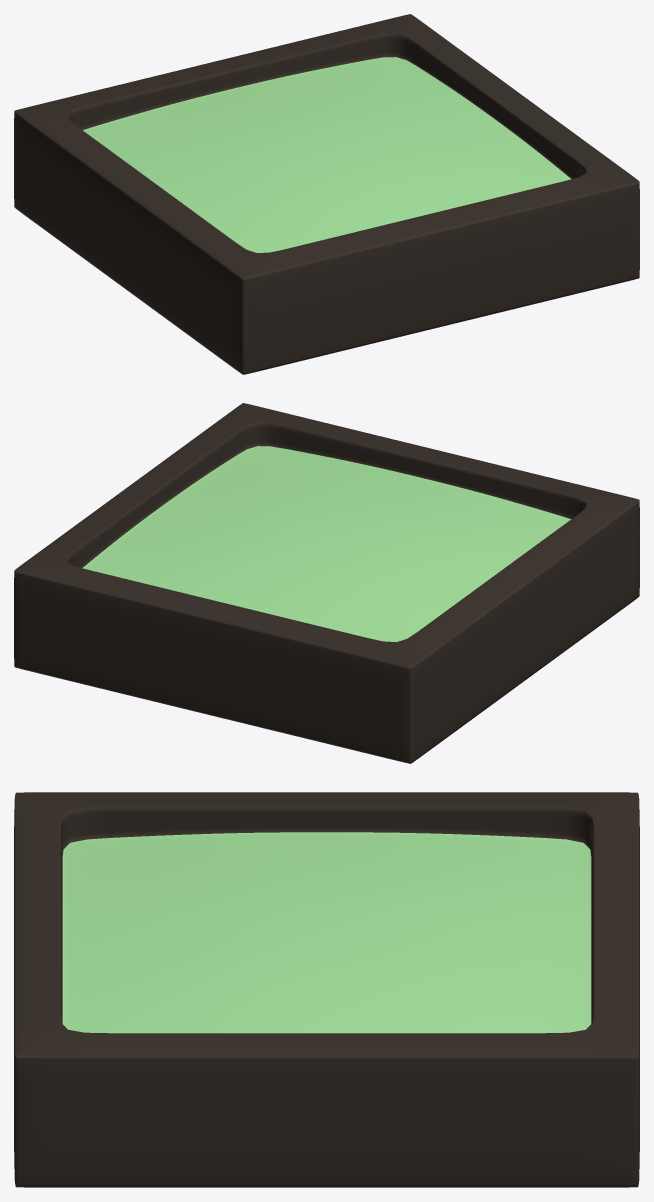
Rendered from Chara.glb.
3 renders of one model, top to bottom at view 1: azimuth 30°, elevation 25°; view 2: azimuth 150°, elevation 25°; view 3: azimuth 270°, elevation 25°, orthographic. The views are drawn at different scales.
Parts seen in each view (by area): view 1: Chara; view 2: Chara; view 3: Chara.
Part boxes in pixels (x1,y1,x2,y2): Chara: (14,14,639,374); Chara: (14,403,639,763); Chara: (14,792,639,1187).
Size of the model in its own units: 20 by 4.79 by 20.
